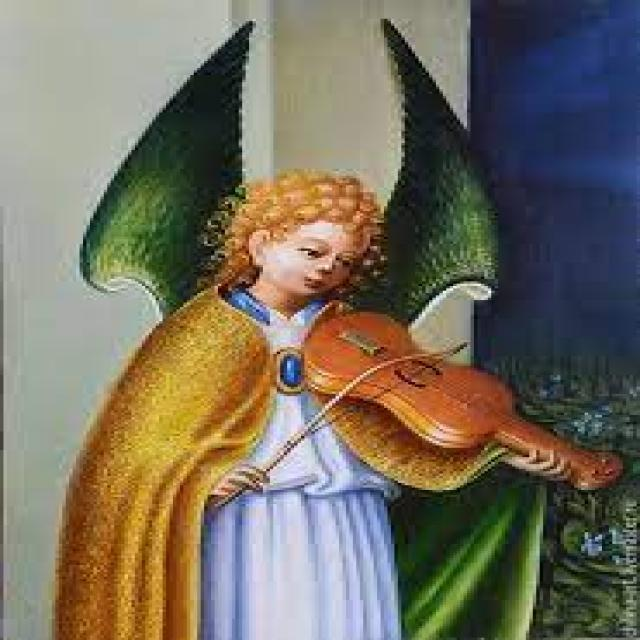angel: (22, 19, 594, 640)
